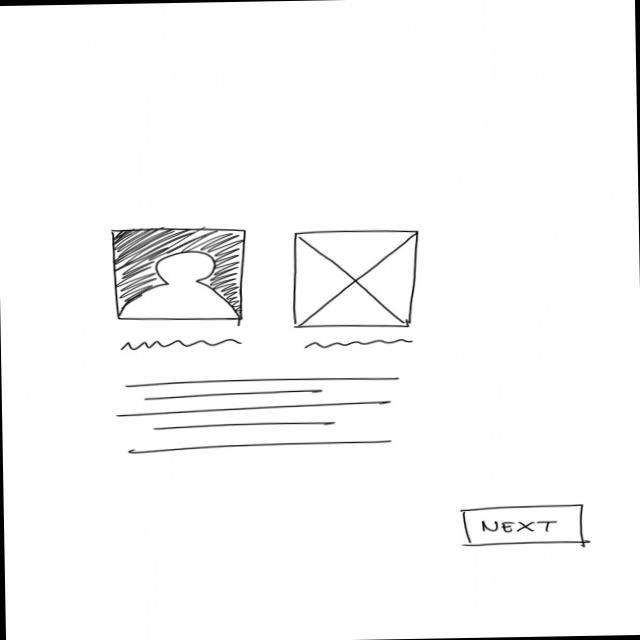button: (461, 501, 588, 551)
image: (107, 223, 249, 324), (291, 228, 422, 331)
text: (119, 337, 246, 354), (304, 338, 416, 351)
textbox: (114, 375, 405, 458)
